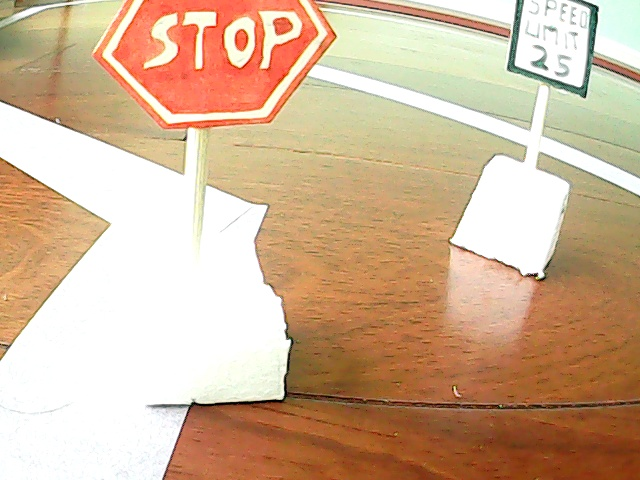speed_25: (455, 1, 602, 289)
stop: (94, 1, 341, 404)
